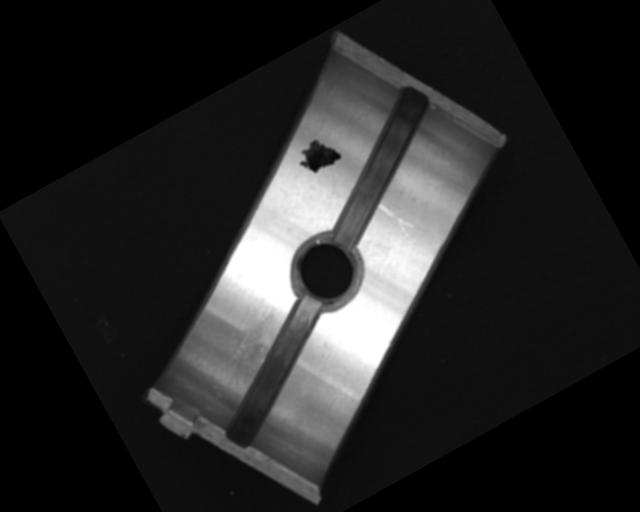blot: (292, 132, 343, 179)
gap: (290, 83, 471, 251), (185, 295, 362, 453)
hole: (278, 223, 375, 322)
nick: (376, 192, 417, 242)
scratch: (203, 306, 301, 395)
